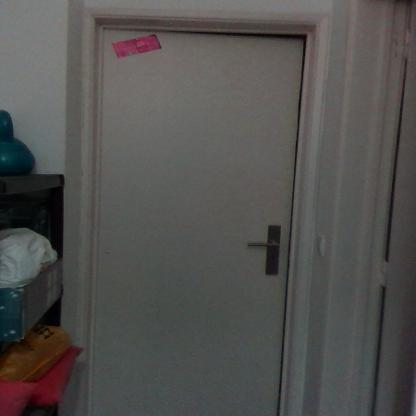door: (95, 28, 290, 416)
lever: (242, 239, 286, 252)
